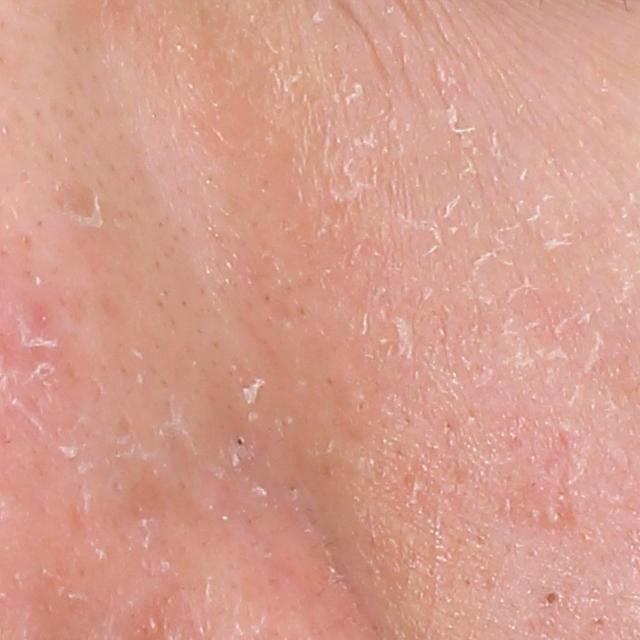comedo: (543, 588, 560, 608)
